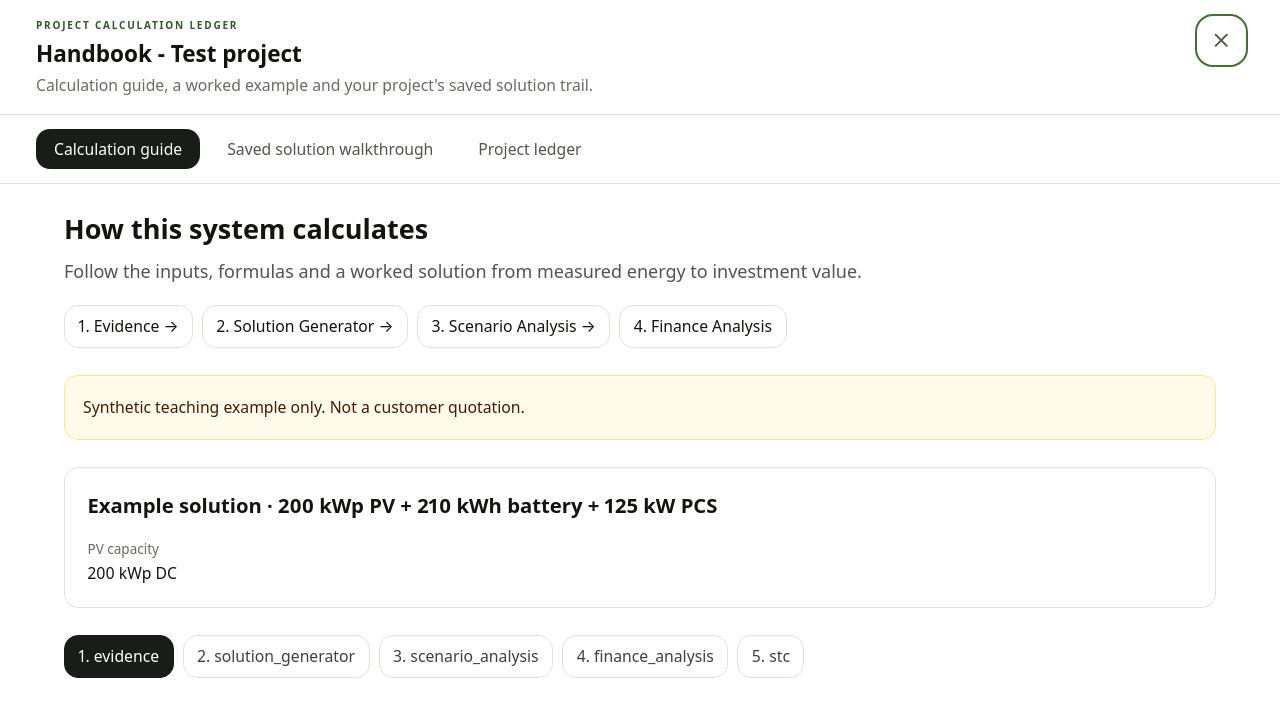
Test: CiHandbookPanel › explains an empty solution list instead of displaying a blank walkthrough
This screenshot has width=1280, height=705.
Click the button "Saved solution walkthrough": (330, 149) [209,128,451,169]
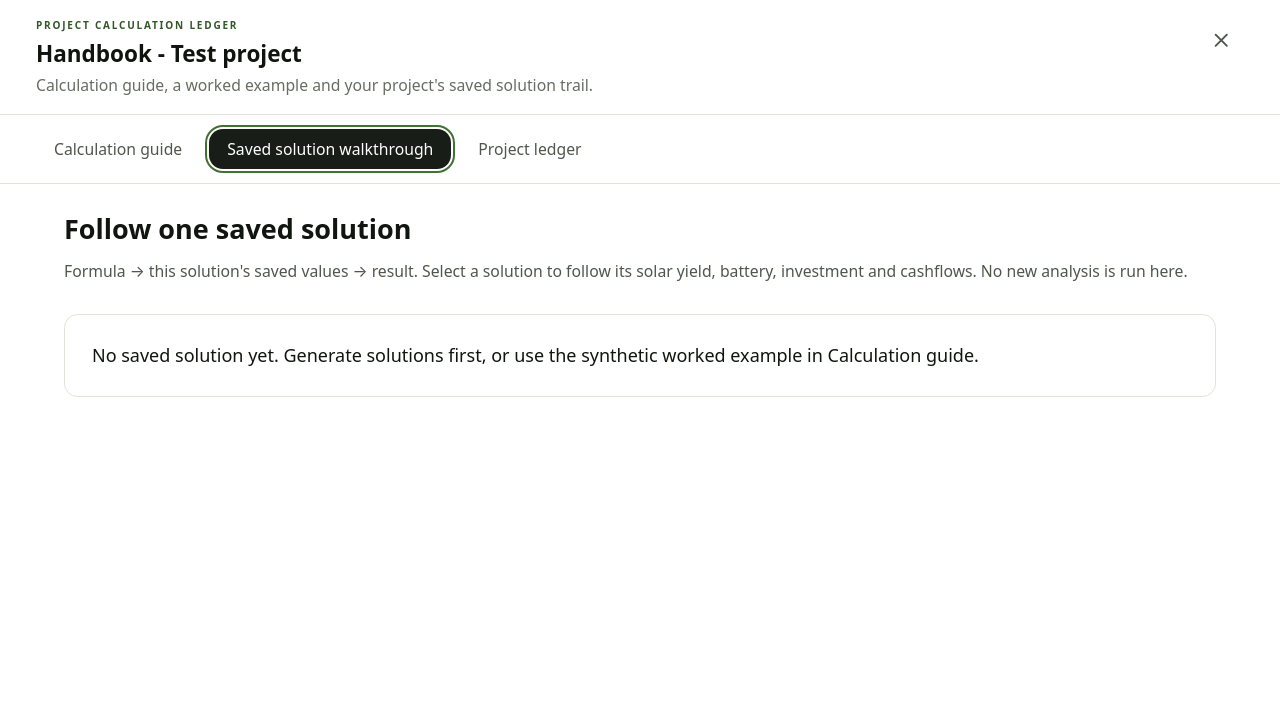
Check: the text "No saved solution yet" is shown, box [92,343,979,367]
